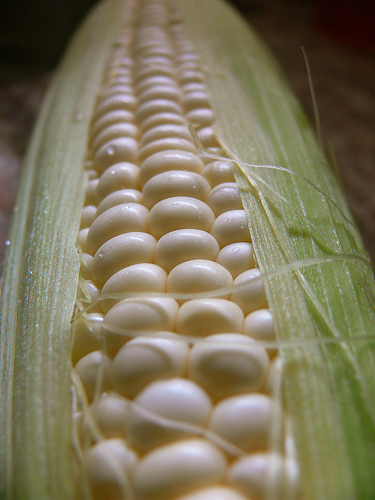corn: (0, 0, 372, 498)
